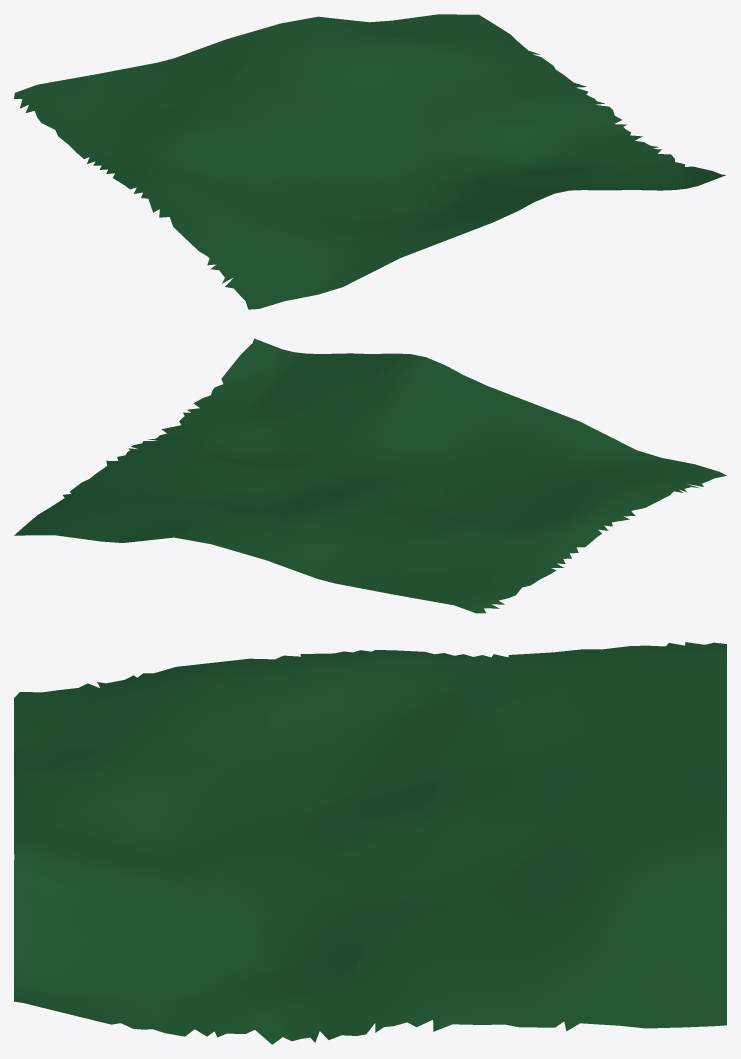
File: payo_land_x1_ym4_lod2.glb
3 renders of one model, top to bottom at view 1: azimuth 30°, elevation 25°; view 2: azimuth 150°, elevation 25°; view 3: azimuth 270°, elevation 25°, orthographic. The views are drawn at different scales.
Parts seen in each view (by area): view 1: payo_land_x1_ym4; view 2: payo_land_x1_ym4; view 3: payo_land_x1_ym4.
Part boxes in pixels (bbox=[...]): payo_land_x1_ym4: bbox=[14, 14, 725, 309]; payo_land_x1_ym4: bbox=[14, 338, 726, 613]; payo_land_x1_ym4: bbox=[14, 642, 726, 1044].
Size of the model in its own units: 263 by 26.44 by 231.
